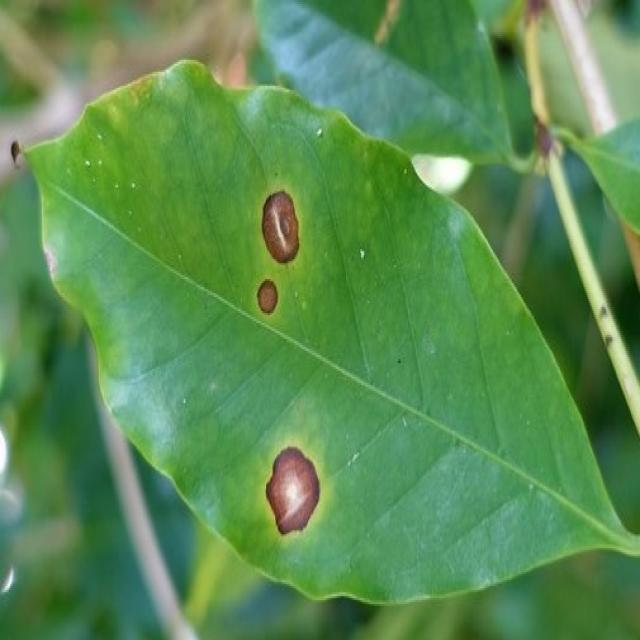Enfermedad-Mancha-de-hierro: (22, 60, 640, 608)
